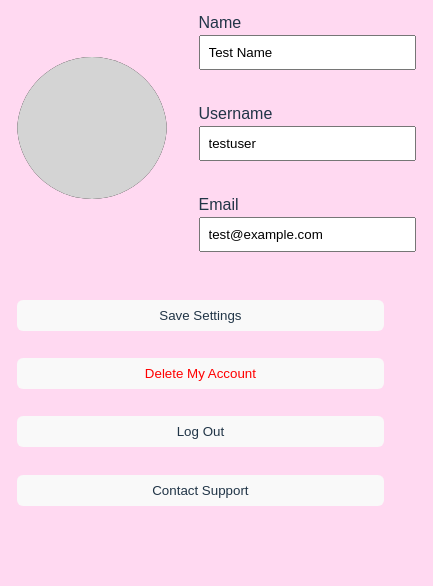
Scenario: UserProfile Component › saves profile successfully
The width and height of the screenshot is (433, 586).
Replace the text in the 1st field showing "Test Name" with "New Name" at (307, 52), box [198, 35, 416, 70]
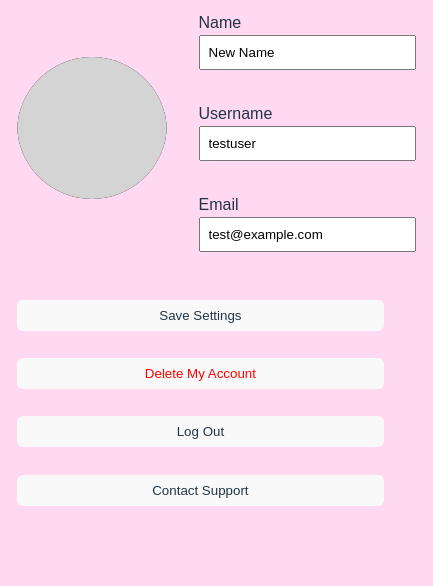
Click the button "Save Settings".
click(200, 316)  # box [16, 300, 384, 331]
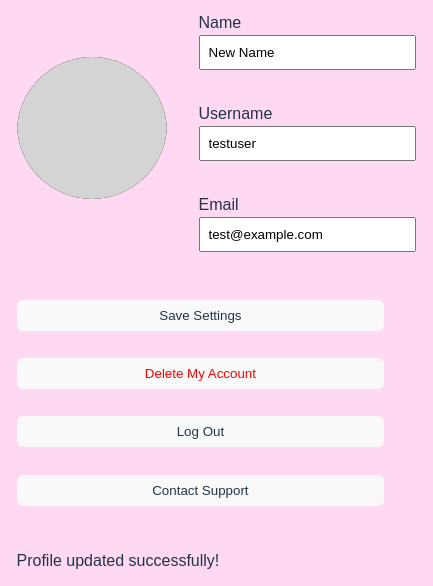
Expected: the text "Profile updated successfully!" is shown, [16, 552, 219, 569]
